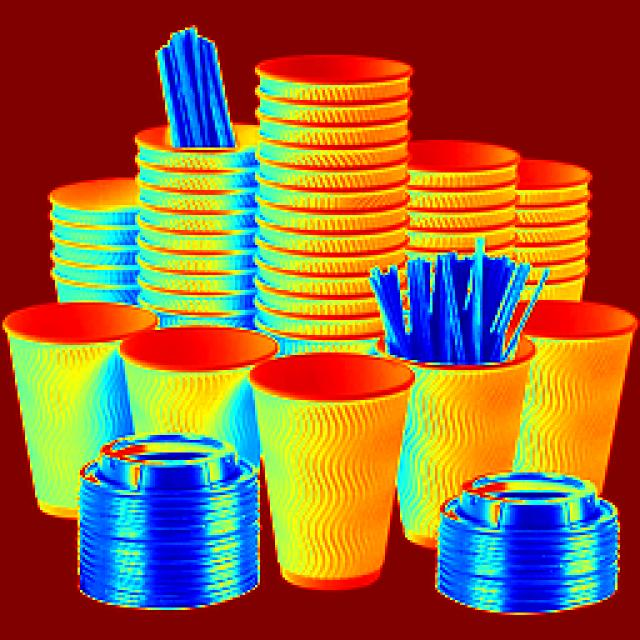Paper Cups: (257, 347, 391, 614), (10, 316, 144, 442), (532, 304, 636, 462), (124, 320, 261, 438)
